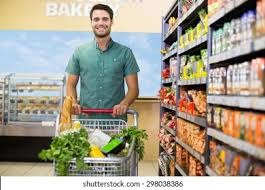with_basket: (56, 103, 141, 176)
without_mask: (90, 3, 113, 37)
